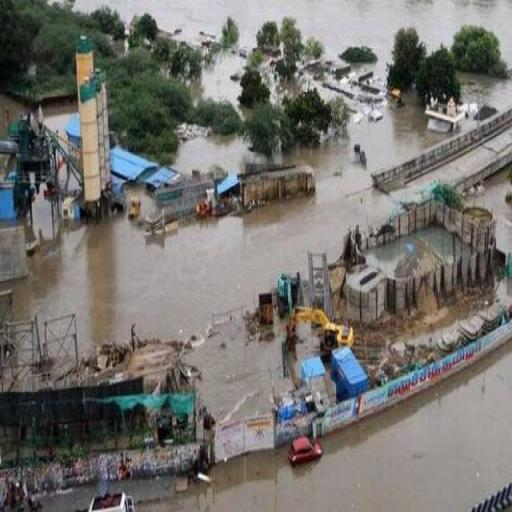flood: (0, 96, 448, 352), (138, 342, 512, 512), (104, 0, 512, 79), (186, 318, 282, 424), (411, 282, 512, 340), (366, 226, 473, 276), (467, 167, 512, 253), (173, 135, 262, 174), (202, 51, 247, 104), (462, 75, 512, 111), (31, 184, 53, 241), (0, 94, 23, 139), (46, 104, 75, 128), (320, 84, 338, 96), (78, 1, 101, 8)
house: (238, 162, 318, 201), (110, 146, 158, 182), (147, 166, 178, 190)
